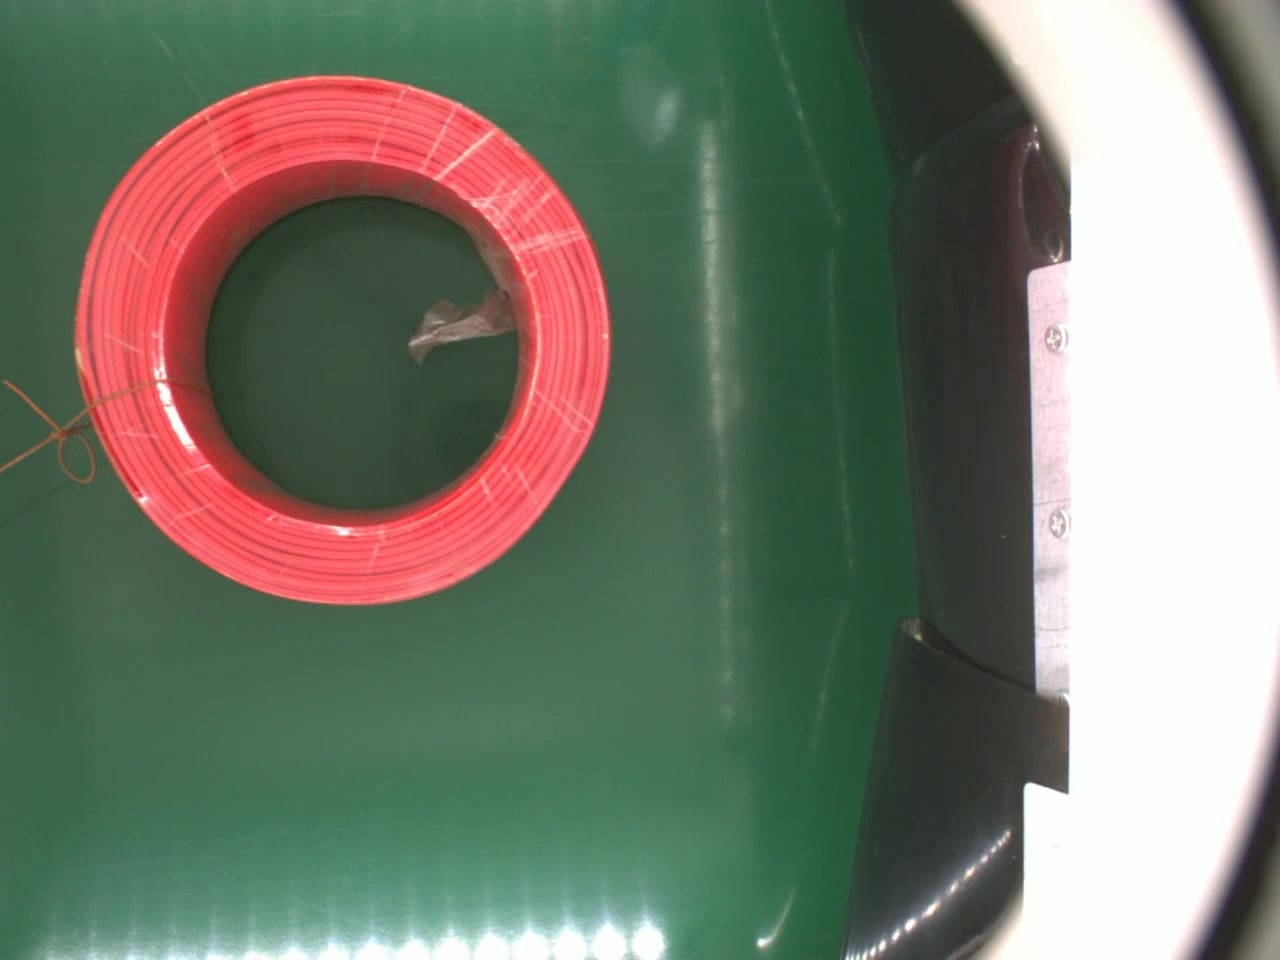red: (71, 69, 613, 608)
